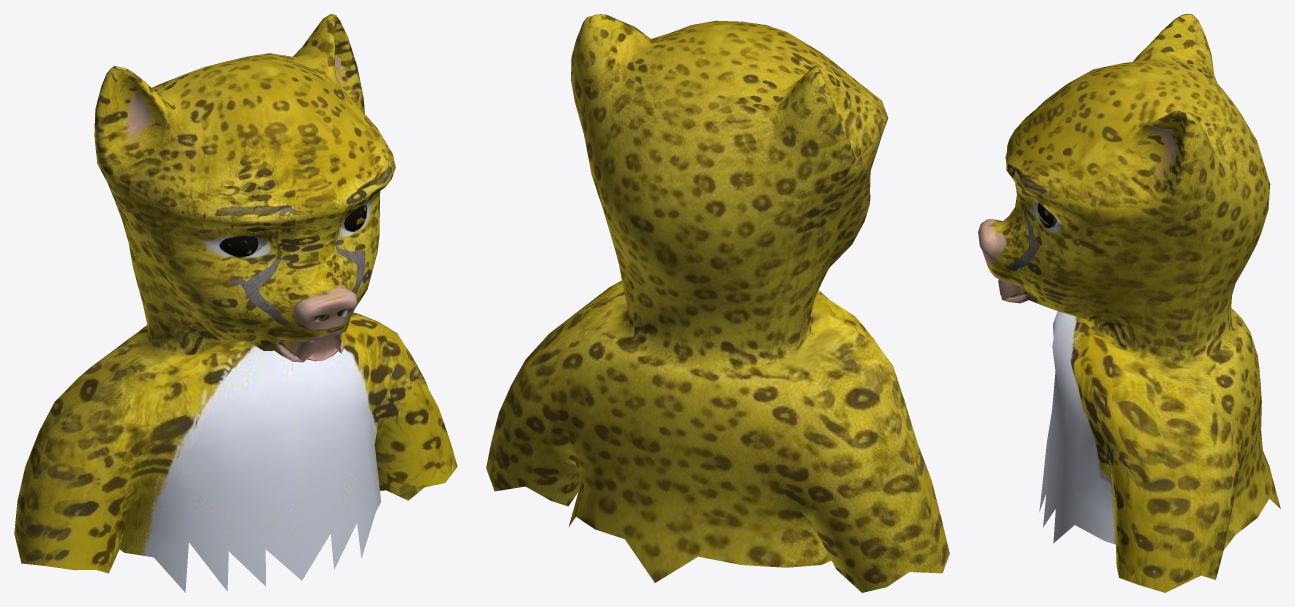
Rendered from baola.glb.
3 views of the same model, side by side, from view 1: azimuth 30°, elevation 25°; view 2: azimuth 150°, elevation 25°; view 3: azimuth 270°, elevation 25° (orthographic). The views are drawn at different scales.
Parts seen in each view (by area): view 1: Head; view 2: Head; view 3: Head.
Boxes of the visible parts, box(x1,y1,x2,y2) form: Head: box(14, 14, 457, 592); Head: box(486, 14, 949, 592); Head: box(978, 14, 1280, 592).
Size of the model in its own units: 0.5469 by 0.5894 by 0.3574.
Materials: 1 (1 with a texture image).
